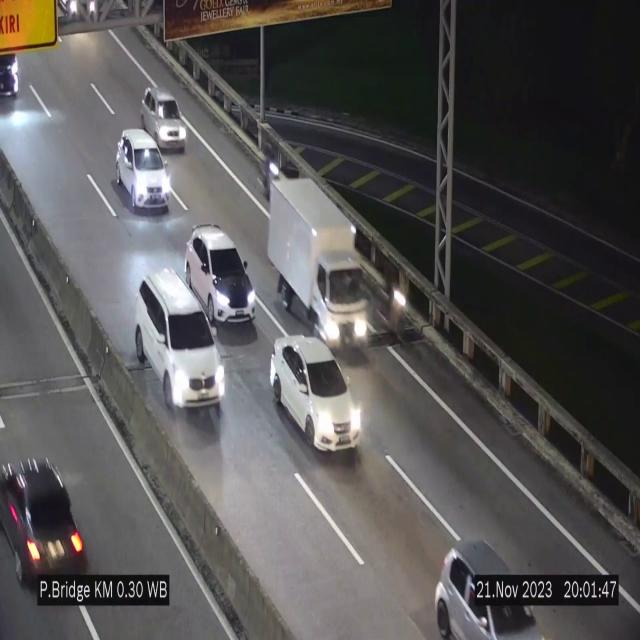Car: (0, 437, 92, 599), (134, 262, 226, 415), (423, 536, 545, 640), (270, 335, 362, 453), (184, 226, 257, 330), (115, 128, 171, 210), (142, 86, 186, 151)
Motorcycle: (378, 262, 410, 348), (260, 142, 278, 194)
Truck: (267, 178, 370, 348)
